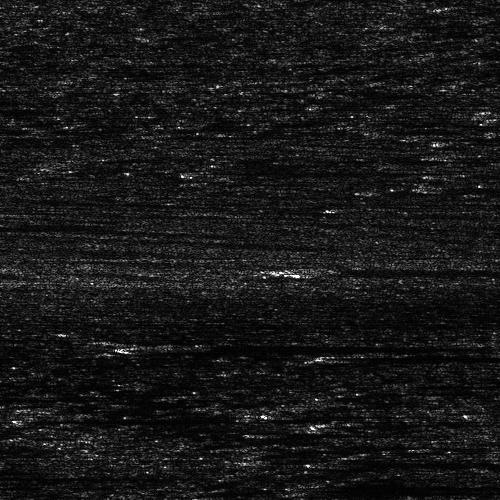object: (92, 338, 197, 353), (364, 181, 499, 192), (249, 263, 364, 272), (319, 349, 392, 362), (422, 153, 495, 158), (297, 461, 338, 464)
shadow: (145, 338, 443, 353), (0, 462, 162, 477), (356, 349, 500, 362), (307, 263, 500, 272), (0, 215, 95, 232), (432, 181, 500, 192), (318, 461, 474, 464), (259, 430, 415, 433), (458, 153, 500, 158), (199, 169, 347, 170)
